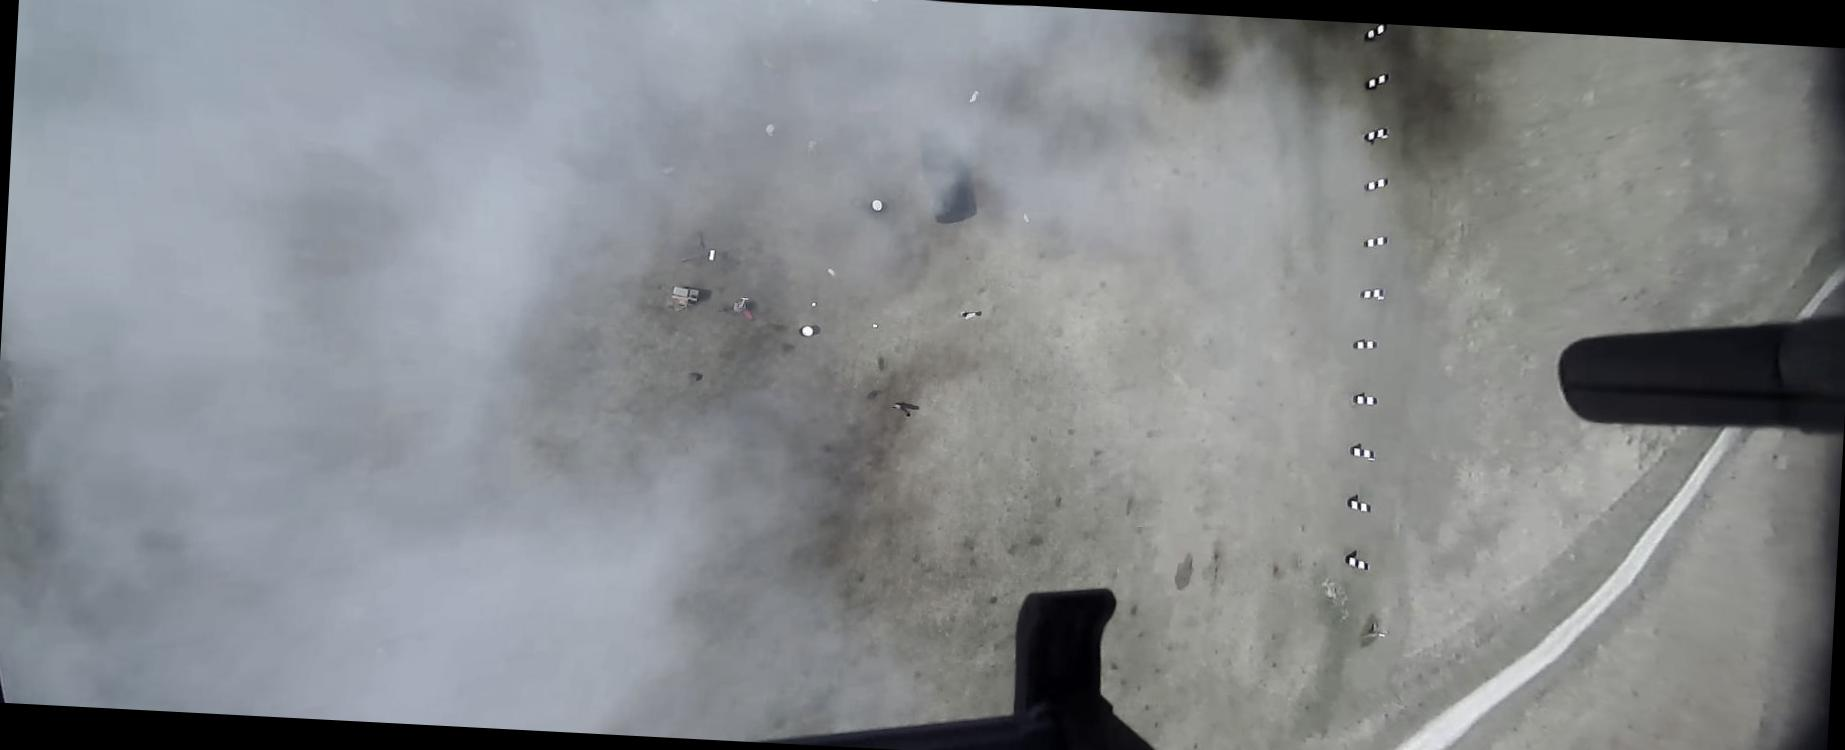vehicle: (913, 130, 981, 226)
